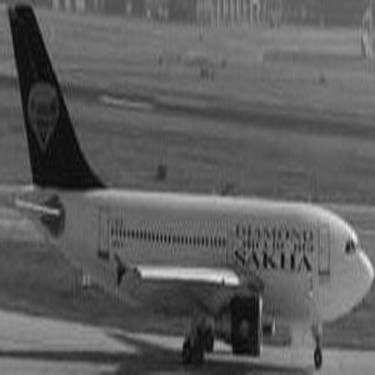airplane: (2, 8, 370, 372)
